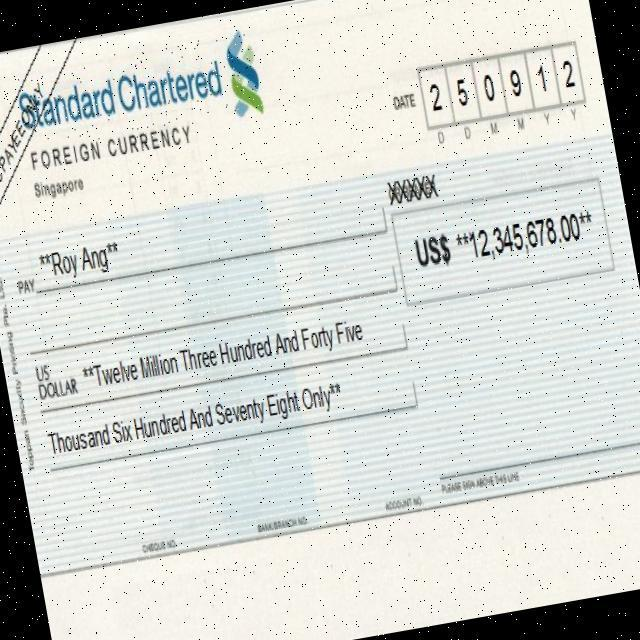Standard Chartered: (14, 30, 266, 157)
